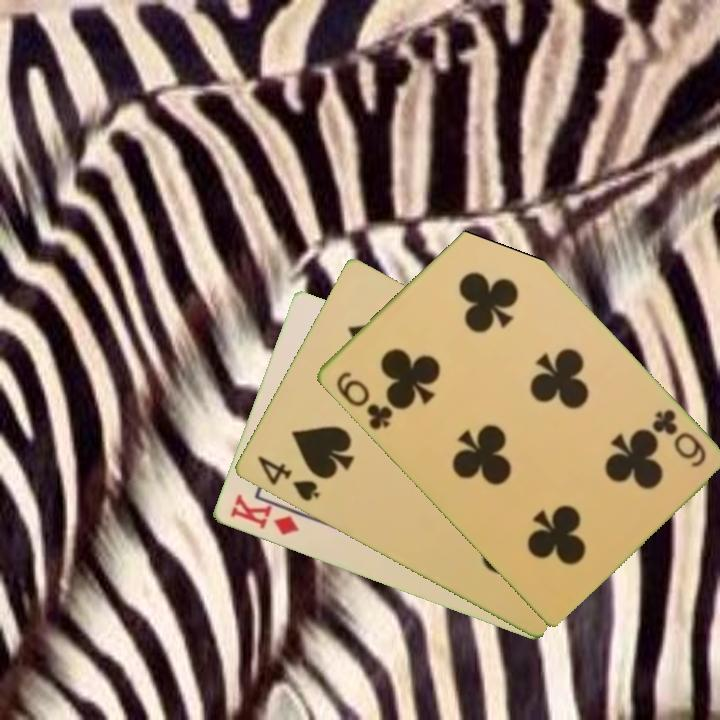4s: (253, 452, 323, 505)
6c: (331, 367, 395, 433), (647, 405, 709, 471)
Kd: (226, 490, 302, 539)
